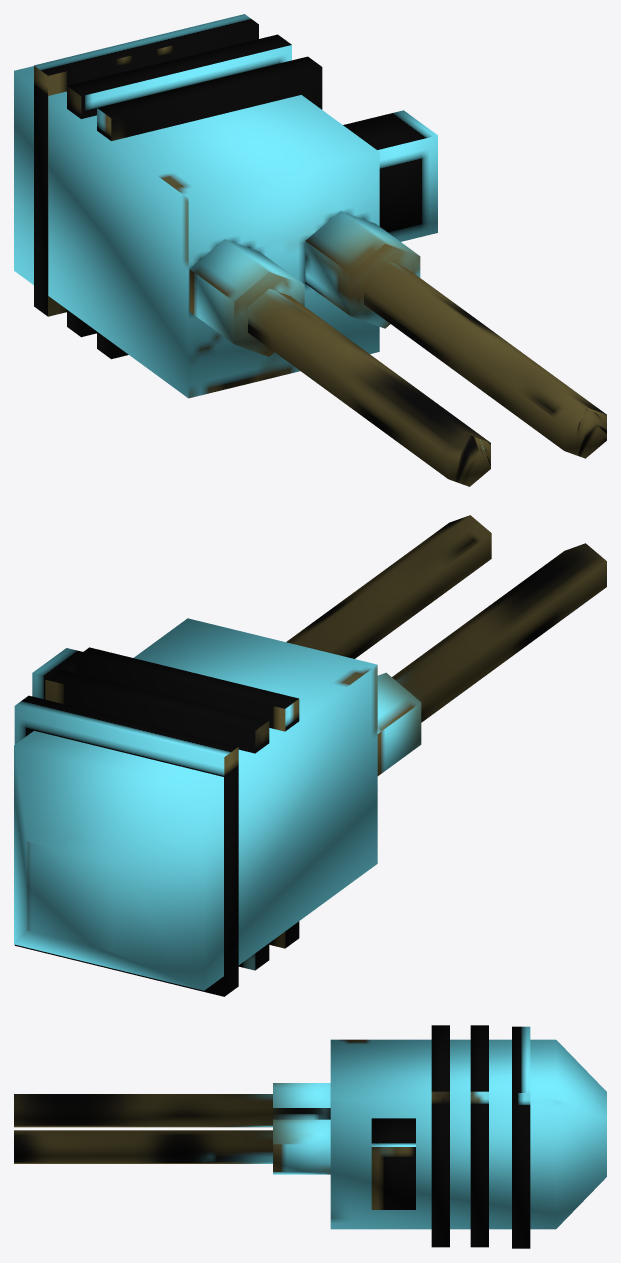
Rendered from Turret.fbx.
The picture shows the model from 3 angles, top to bottom: view 1: azimuth 30°, elevation 25°; view 2: azimuth 150°, elevation 25°; view 3: azimuth 270°, elevation 25°; orthographic projection. The views are drawn at different scales.
Visible parts, largest first — view 1: Turret_LOD0; view 2: Turret_LOD0; view 3: Turret_LOD0.
Boxes of the visible parts, bbox=[...] form: Turret_LOD0: bbox=[14, 14, 606, 486]; Turret_LOD0: bbox=[14, 515, 606, 996]; Turret_LOD0: bbox=[14, 1025, 606, 1248].
Size of what is drawn, in the model's own units: 295 by 244 by 832.
